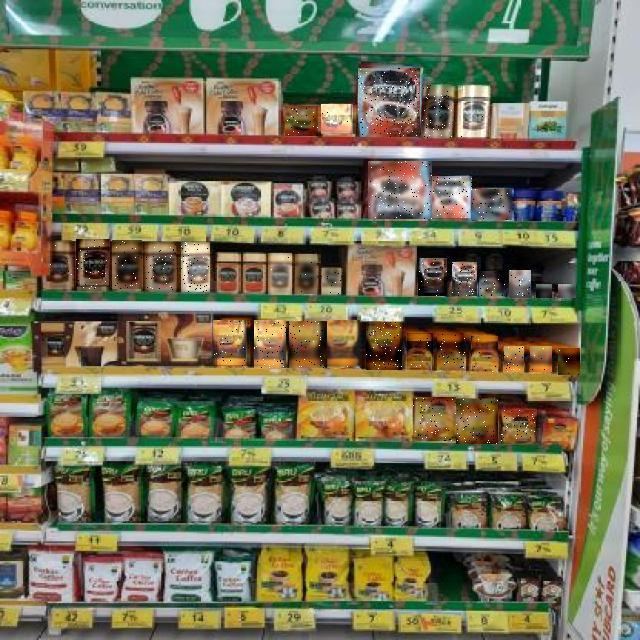Coffee: (358, 68, 420, 137), (368, 161, 432, 219), (413, 397, 456, 441), (456, 399, 498, 444), (328, 321, 364, 369), (290, 322, 326, 370), (366, 322, 402, 370), (76, 240, 110, 290), (433, 176, 473, 218), (458, 85, 490, 137), (214, 320, 250, 366), (423, 85, 453, 138), (254, 320, 286, 368), (146, 242, 176, 292), (112, 240, 142, 289), (181, 242, 210, 292), (472, 189, 514, 220), (501, 410, 536, 444), (418, 258, 447, 296), (50, 240, 72, 289), (438, 333, 466, 370), (322, 104, 356, 134), (286, 106, 320, 136), (268, 253, 292, 295), (471, 336, 498, 372), (407, 333, 433, 370), (295, 254, 317, 294), (452, 262, 477, 296), (480, 272, 506, 298), (509, 270, 531, 298), (558, 348, 580, 375), (530, 346, 552, 372), (504, 346, 524, 372), (322, 269, 341, 295), (558, 284, 576, 298), (537, 284, 553, 298)
